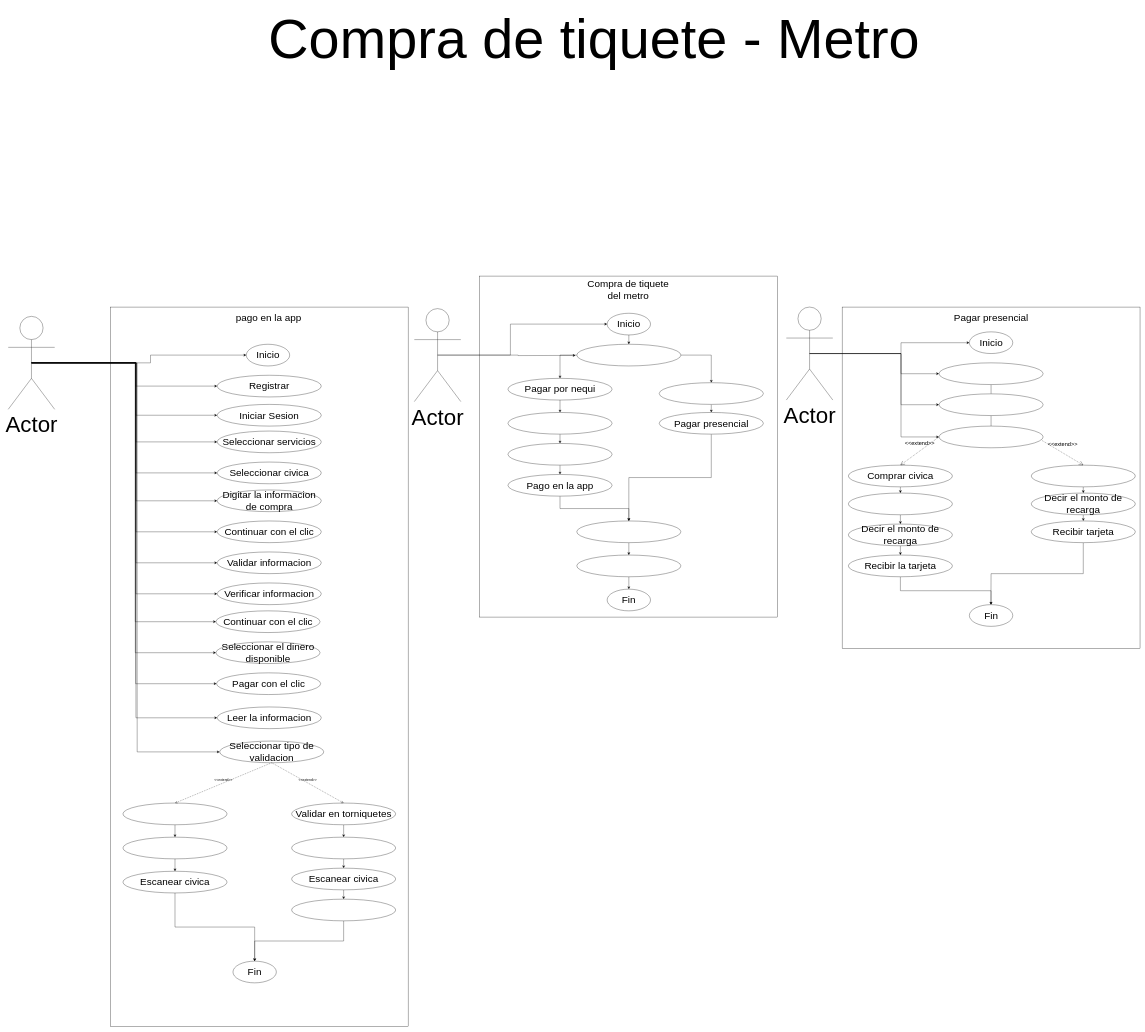
The diagram is 1145 pixels wide and 1032 high, and some of its shapes have lost their labels. The centre of each missing label's shape, as x and y in pixels:
"Abrir app" goes at (x=560, y=454).
"Abrir camara" goes at (x=175, y=848).
"Descargar la app" goes at (x=560, y=423).
"Elegir compra o recarga" goes at (x=991, y=437).
"Elegir método de pago" goes at (x=628, y=355).
"Finalizar comprar" goes at (x=628, y=532).
"Hacer fila en taquilla" goes at (x=991, y=405).
"Ir a estacion de metro" goes at (x=991, y=374).
"Ir a la estacion" goes at (x=343, y=848).
"pagar civica" goes at (x=900, y=504).
"Pagar en taquilla" goes at (x=711, y=393).
"Recargar civica" goes at (x=1083, y=476).
"Revisar el saldo" goes at (x=343, y=910).
"Usar torniquetes" goes at (x=628, y=566).
"Validar por NFC" goes at (x=175, y=814).
